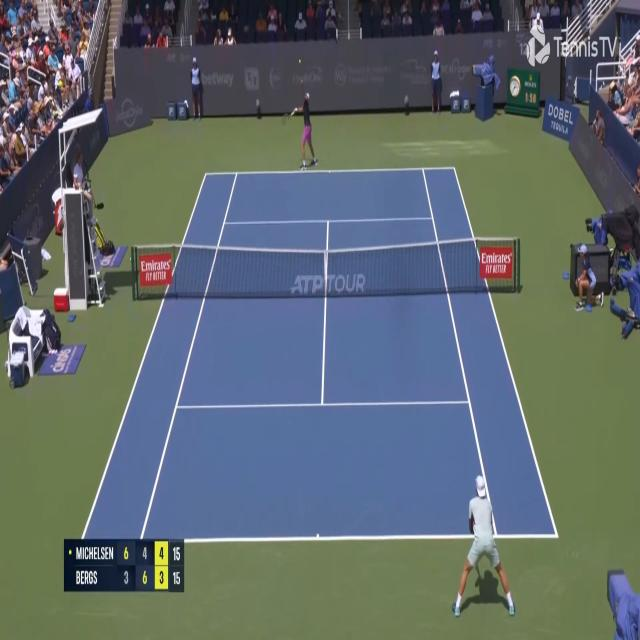tennis-player: (450, 470, 520, 624), (286, 91, 320, 172)
